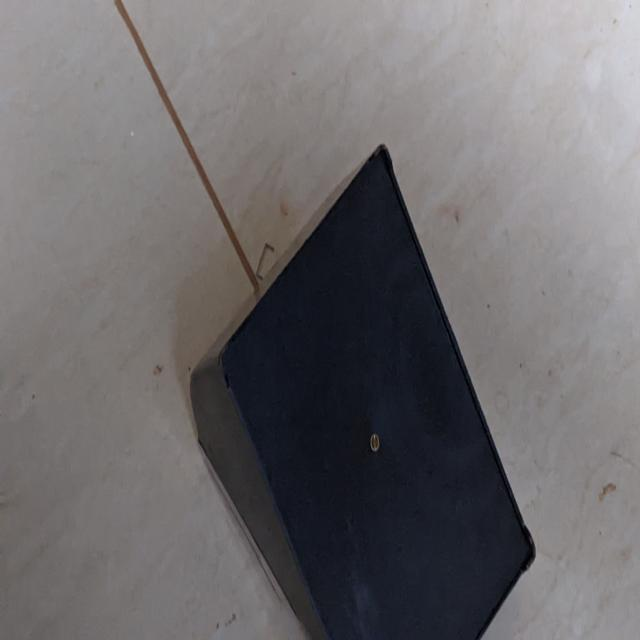Ammeter Analog: (183, 138, 542, 640)
